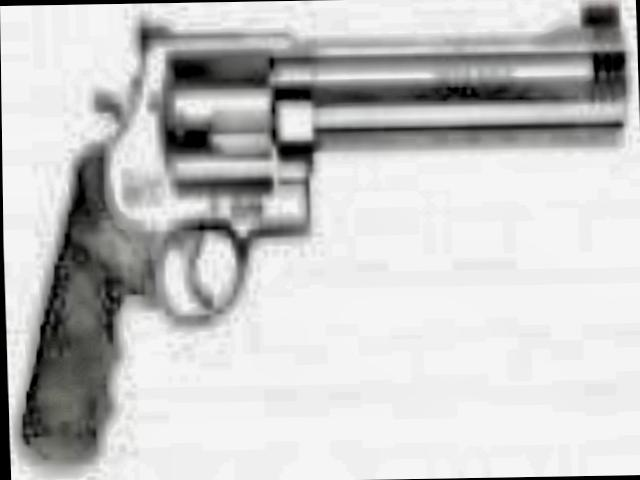pistol: (4, 0, 633, 457)
